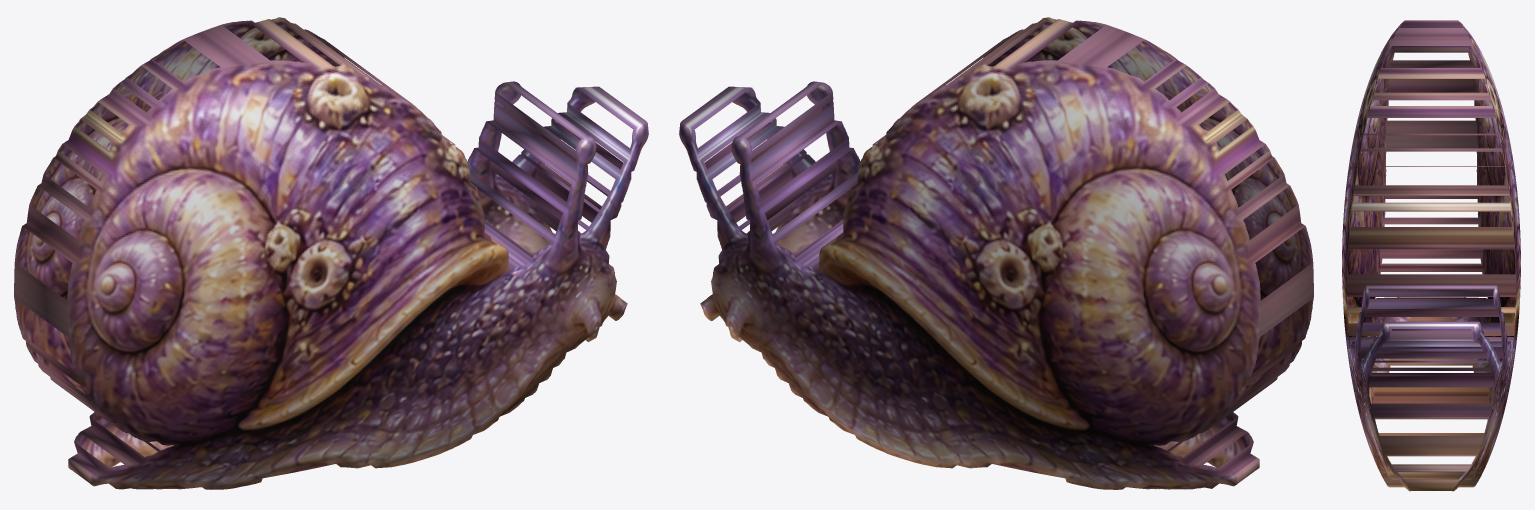
The picture shows the model from 3 angles, left to right: view 1: azimuth 30°, elevation 25°; view 2: azimuth 150°, elevation 25°; view 3: azimuth 270°, elevation 25°; orthographic projection. The views are drawn at different scales.
Parts seen in each view (by area): view 1: organisms:1; view 2: organisms:1; view 3: organisms:1.
Part boxes in pixels (x1,y1,x2,y2): organisms:1: (14, 17, 648, 489); organisms:1: (679, 17, 1313, 489); organisms:1: (1342, 20, 1520, 491).
Bounding box in the file's own units: 1.33 × 0.9444 × 0.42.
Materials: 1 (1 with a texture image).
